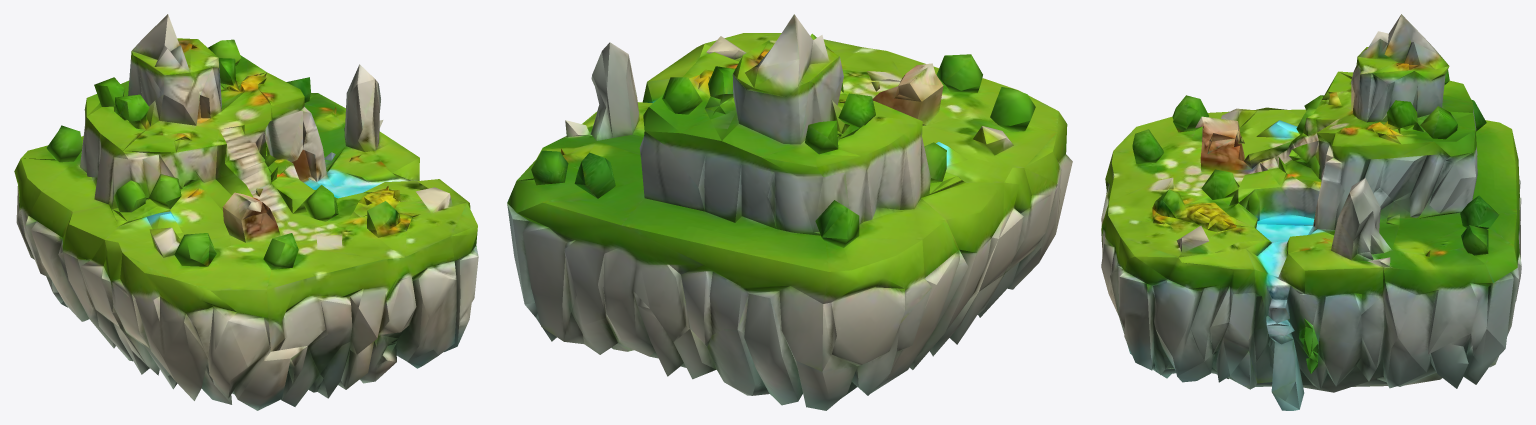
Rendered from islandD.glb.
The picture shows the model from 3 angles, left to right: view 1: azimuth 30°, elevation 25°; view 2: azimuth 150°, elevation 25°; view 3: azimuth 270°, elevation 25°; orthographic projection. The views are drawn at different scales.
Visible parts, largest first — view 1: model; view 2: model; view 3: model.
Boxes of the visible parts, <box> form: model: <box>14,14,478,410</box>; model: <box>507,14,1072,410</box>; model: <box>1101,14,1521,410</box>.
Size of the model in its own units: 1.76 by 1.57 by 1.89.
Materials: 1 (1 with a texture image).
